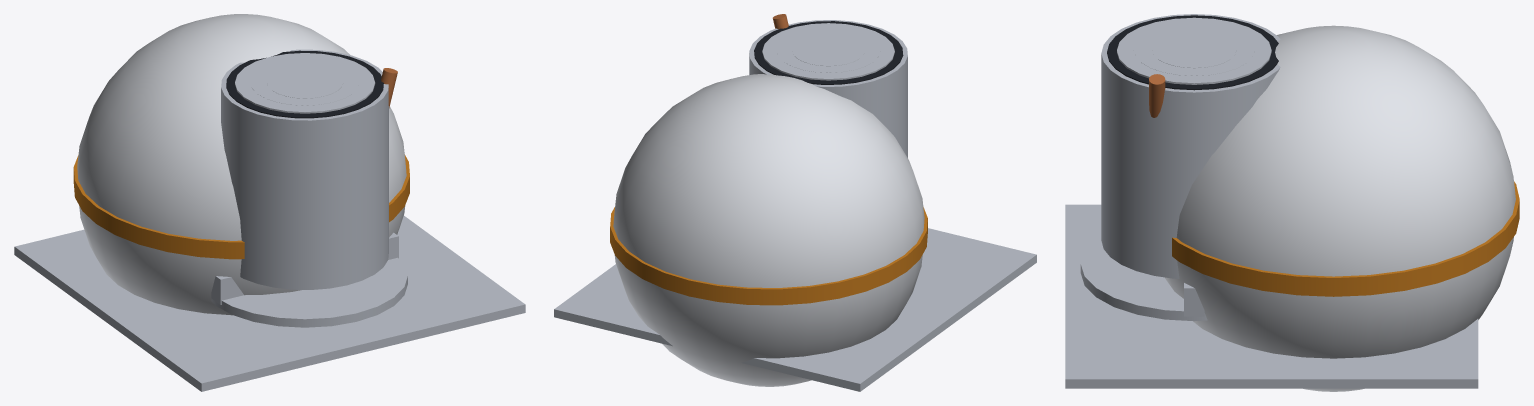
The model's file is nextc.glb.
The picture shows the model from 3 angles, left to right: view 1: azimuth 30°, elevation 25°; view 2: azimuth 150°, elevation 25°; view 3: azimuth 270°, elevation 25°; orthographic projection. The views are drawn at different scales.
Visible parts, largest first — view 1: nc_tank, nc_deck, nc_thruster_body, nc_gimbal_ring1, nc_tank_band, nc_grid_ring_0, nc_grid_ring_1, nc_grid_ring_2, nc_grid_plate, nc_gimbal_yoke; view 2: nc_tank, nc_deck, nc_tank_band, nc_thruster_body, nc_grid_ring_0, nc_grid_ring_1, nc_grid_ring_2, nc_grid_plate; view 3: nc_tank, nc_deck, nc_thruster_body, nc_tank_band, nc_gimbal_ring1, nc_grid_ring_0, nc_grid_ring_1, nc_grid_ring_2, nc_grid_plate, nc_cathode, nc_gimbal_yoke.
Part boxes in pixels (left/top/right/bottom): nc_tank: left=77, top=14, right=406, bottom=315; nc_deck: left=14, top=215, right=525, bottom=391; nc_thruster_body: left=221, top=49, right=388, bottom=289; nc_gimbal_ring1: left=211, top=257, right=407, bottom=327; nc_tank_band: left=73, top=154, right=409, bottom=259; nc_grid_ring_0: left=235, top=53, right=375, bottom=113; nc_grid_ring_1: left=250, top=59, right=359, bottom=105; nc_grid_ring_2: left=266, top=66, right=343, bottom=98; nc_grid_plate: left=226, top=50, right=383, bottom=118; nc_gimbal_yoke: left=211, top=232, right=398, bottom=304; nc_tank: left=613, top=74, right=924, bottom=386; nc_deck: left=554, top=228, right=1036, bottom=391; nc_tank_band: left=610, top=207, right=927, bottom=305; nc_thruster_body: left=749, top=20, right=907, bottom=157; nc_grid_ring_0: left=762, top=23, right=894, bottom=80; nc_grid_ring_1: left=777, top=29, right=880, bottom=72; nc_grid_ring_2: left=792, top=35, right=864, bottom=66; nc_grid_plate: left=754, top=21, right=903, bottom=84; nc_tank: left=1164, top=25, right=1515, bottom=391; nc_deck: left=1065, top=204, right=1478, bottom=388; nc_thruster_body: left=1101, top=14, right=1280, bottom=278; nc_tank_band: left=1172, top=181, right=1519, bottom=296; nc_gimbal_ring1: left=1080, top=237, right=1207, bottom=321; nc_grid_ring_0: left=1117, top=17, right=1271, bottom=84; nc_grid_ring_1: left=1134, top=24, right=1254, bottom=75; nc_grid_ring_2: left=1152, top=32, right=1236, bottom=68; nc_grid_plate: left=1107, top=15, right=1278, bottom=90; nc_cathode: left=1149, top=74, right=1165, bottom=117; nc_gimbal_yoke: left=1184, top=283, right=1204, bottom=316.
Bounding box in the file's own units: 0.8 × 0.7151 × 0.8803.
